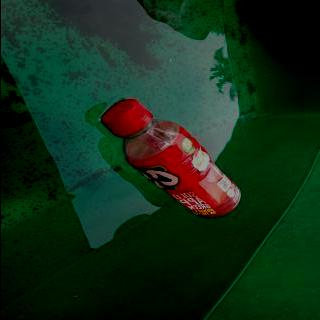bottle: (96, 98, 242, 220)
